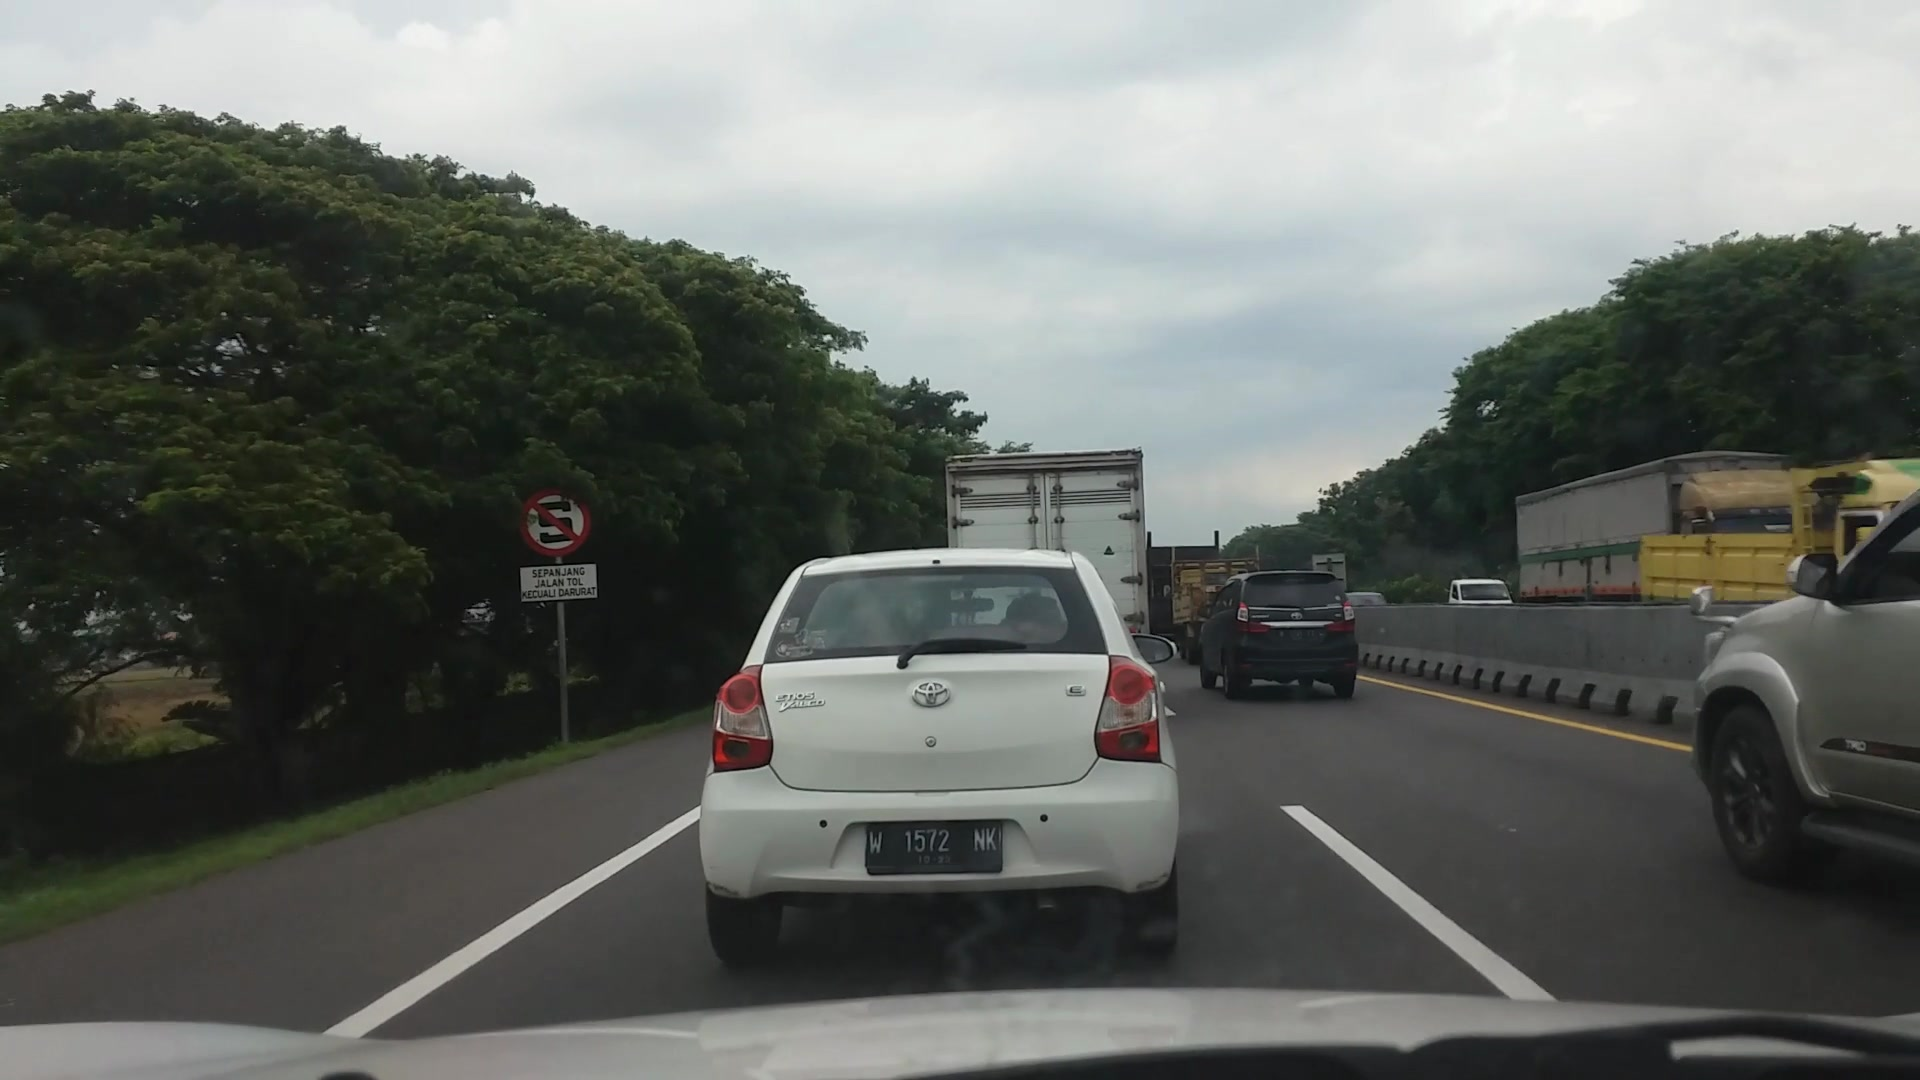plate_positive: (866, 820, 1004, 876)
